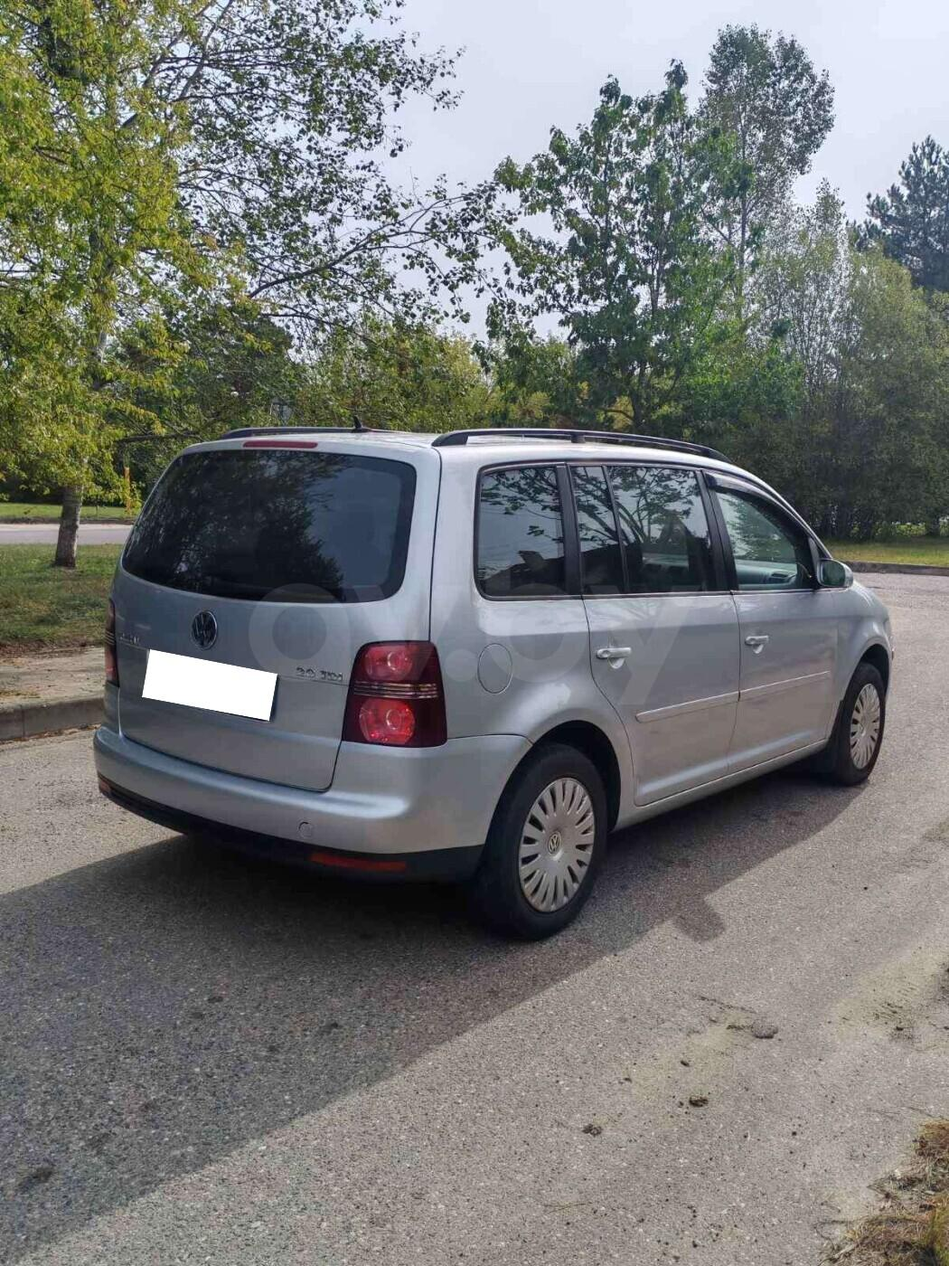Touran_2006-2010: (90, 425, 891, 931)
